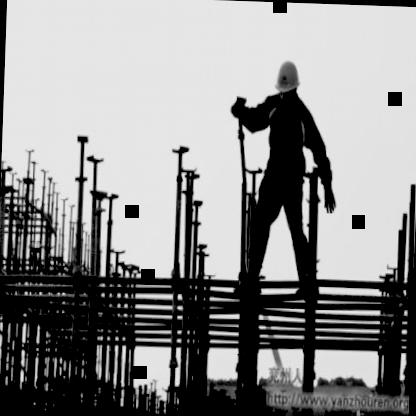helmet: (272, 52, 304, 102)
